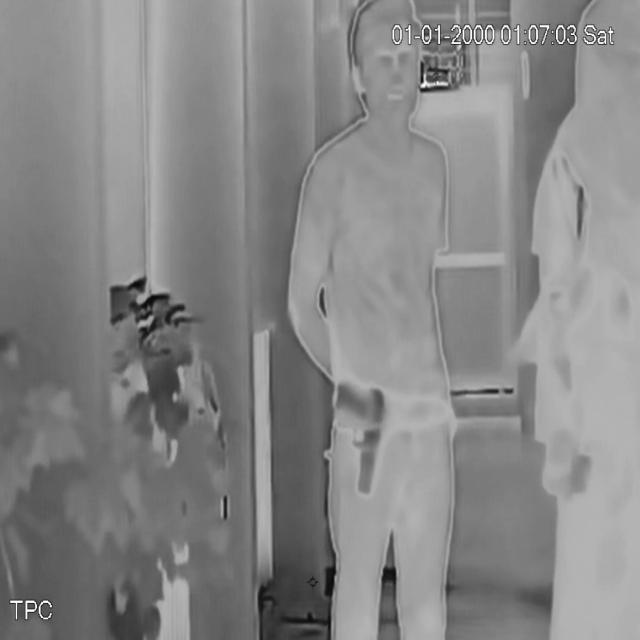Weapon: (328, 378, 400, 503)
